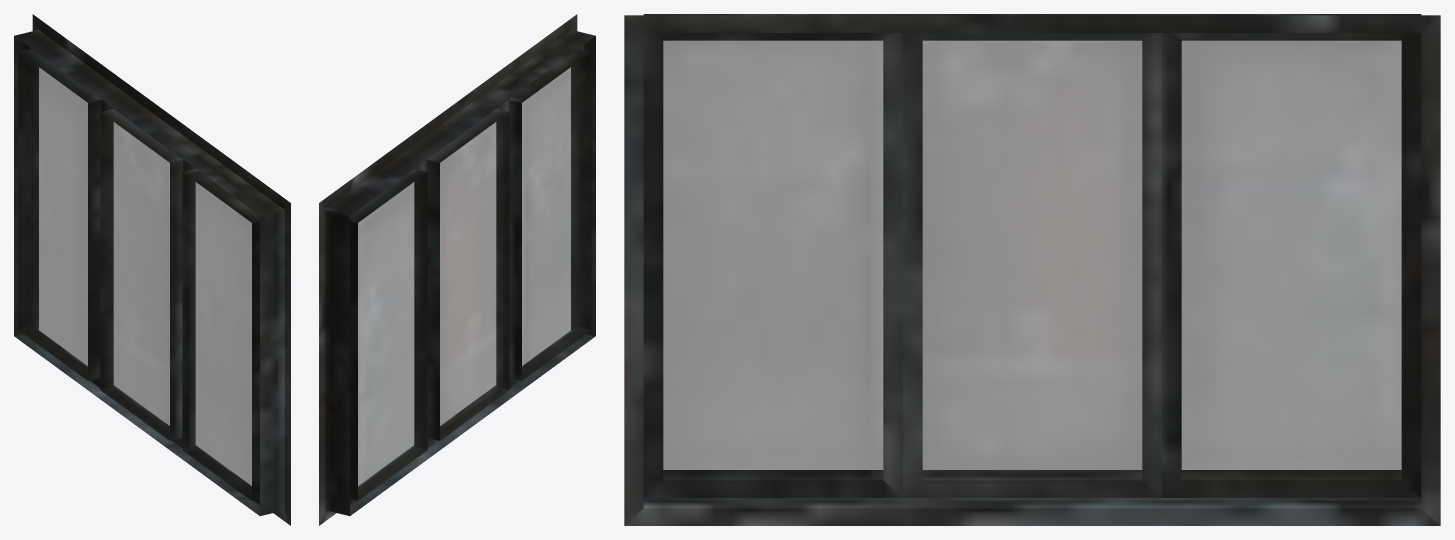
The model's file is TripleWindows.FBX.
3 views of the same model, side by side, from view 1: azimuth 30°, elevation 25°; view 2: azimuth 150°, elevation 25°; view 3: azimuth 270°, elevation 25° (orthographic). The views are drawn at different scales.
Parts seen in each view (by area): view 1: TripleWindows; view 2: TripleWindows; view 3: TripleWindows.
Part boxes in pixels (<box>): TripleWindows: <box>14,14,290,525</box>; TripleWindows: <box>319,14,595,525</box>; TripleWindows: <box>624,14,1440,525</box>.
Bounding box in the file's own units: 14.86 × 173 × 250.
Materials: 2 (2 with a texture image).
